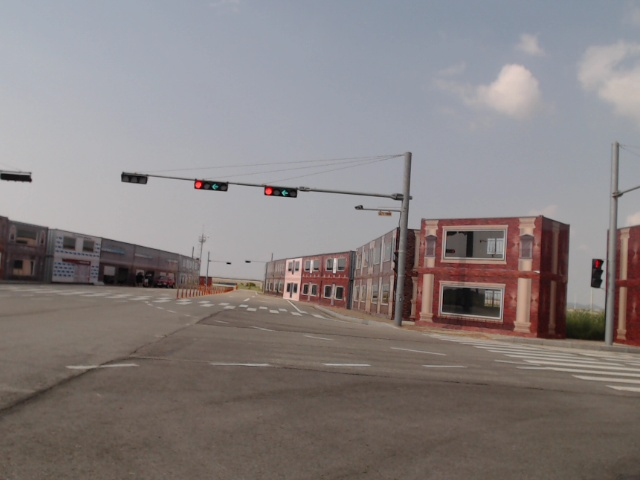left_green_4: (264, 186, 297, 198), (195, 180, 227, 191)
